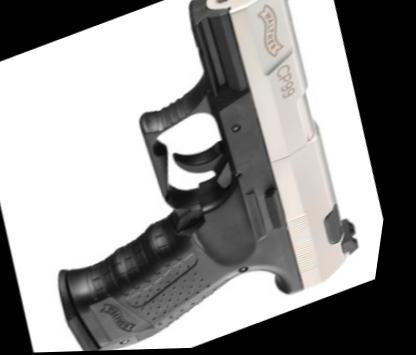pistol: (0, 0, 405, 353)
